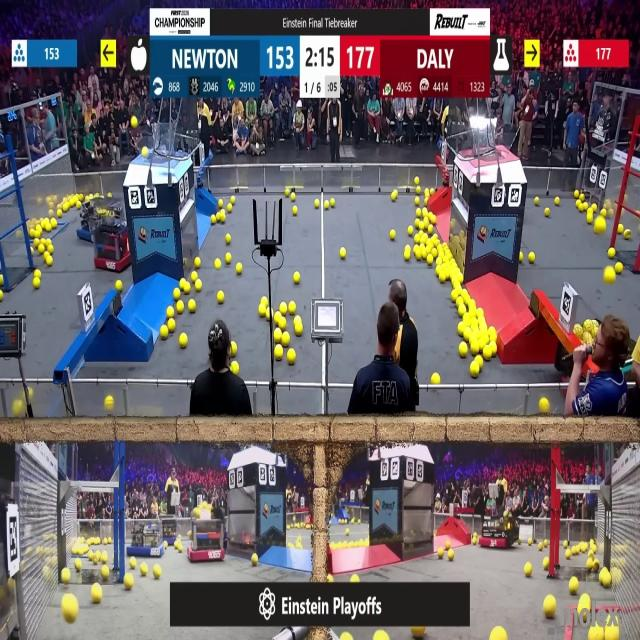ball_airborne: (132, 116, 139, 127), (142, 146, 148, 156)
ball_ground: (63, 596, 78, 622), (543, 596, 554, 618), (413, 626, 425, 640), (93, 586, 102, 604), (600, 570, 610, 586), (604, 269, 614, 284), (595, 218, 605, 233), (12, 403, 22, 418), (569, 580, 578, 596), (494, 628, 506, 640), (582, 594, 591, 610), (469, 362, 479, 376), (62, 568, 71, 583), (286, 350, 295, 364), (539, 398, 548, 412), (590, 628, 601, 639), (126, 574, 134, 589), (105, 396, 114, 409), (469, 342, 478, 355), (282, 333, 290, 347), (232, 360, 240, 374), (179, 336, 187, 350), (294, 320, 302, 334), (274, 328, 282, 342), (275, 346, 283, 359), (102, 566, 110, 579), (460, 344, 468, 357), (616, 264, 624, 276), (288, 303, 296, 315), (187, 301, 195, 313), (258, 306, 266, 318), (182, 282, 190, 294), (168, 319, 176, 331), (524, 564, 532, 576), (484, 347, 492, 359), (431, 374, 439, 385), (140, 564, 148, 575), (217, 290, 224, 302), (177, 302, 184, 314), (162, 326, 169, 338), (280, 304, 287, 316), (458, 305, 465, 317), (490, 344, 497, 356), (426, 254, 434, 264), (232, 343, 238, 356), (44, 255, 51, 266), (458, 323, 465, 334), (440, 273, 447, 284), (237, 264, 243, 276), (154, 566, 160, 578), (293, 273, 299, 285), (542, 558, 548, 570), (252, 554, 258, 566), (174, 288, 180, 300), (588, 212, 594, 224), (193, 257, 200, 267), (115, 281, 122, 291), (587, 559, 594, 569), (168, 308, 175, 318), (38, 244, 45, 254), (218, 212, 225, 222), (274, 312, 281, 322), (418, 219, 425, 229), (490, 334, 497, 344), (468, 298, 475, 308), (194, 281, 200, 292), (608, 248, 614, 259), (341, 248, 347, 259), (280, 318, 286, 329), (452, 290, 458, 301), (464, 327, 470, 338), (351, 574, 359, 582), (421, 208, 428, 217), (429, 215, 436, 224), (225, 253, 231, 263), (34, 279, 40, 289), (529, 252, 535, 262), (403, 250, 409, 260), (315, 200, 321, 210), (131, 558, 137, 568), (214, 261, 220, 271), (391, 190, 397, 200), (76, 560, 82, 570), (102, 554, 108, 564), (575, 201, 581, 211), (50, 218, 56, 228), (458, 274, 464, 284), (463, 294, 469, 304), (478, 309, 485, 317), (555, 198, 561, 207), (625, 231, 631, 240), (565, 552, 571, 561), (431, 248, 437, 257), (342, 634, 351, 640), (193, 510, 199, 519), (0, 275, 4, 288), (225, 235, 230, 245), (190, 272, 195, 282), (449, 551, 454, 561), (388, 229, 393, 239), (417, 208, 422, 218), (437, 549, 442, 559), (267, 310, 272, 320), (415, 234, 420, 244), (327, 574, 333, 582), (35, 270, 41, 278), (416, 252, 422, 260), (619, 224, 625, 232), (46, 246, 52, 254), (263, 296, 269, 304), (578, 192, 584, 200), (490, 326, 496, 334), (572, 190, 578, 198), (583, 204, 589, 212), (409, 226, 414, 235), (537, 198, 542, 207), (428, 224, 433, 233), (284, 189, 290, 196), (424, 188, 430, 195), (292, 207, 297, 215), (178, 542, 183, 550), (324, 202, 329, 210), (520, 252, 524, 262), (0, 290, 4, 300), (290, 192, 295, 200), (218, 201, 223, 209), (230, 197, 235, 205), (435, 256, 440, 264), (58, 210, 63, 218), (76, 202, 81, 210), (435, 268, 440, 276), (601, 209, 606, 217), (34, 240, 39, 248), (447, 540, 452, 548), (90, 552, 94, 562), (423, 199, 428, 207), (212, 214, 216, 223), (544, 208, 548, 217), (416, 198, 420, 207), (226, 205, 231, 212), (416, 185, 421, 192), (415, 177, 420, 184), (330, 200, 334, 208), (538, 542, 542, 550), (48, 210, 52, 218), (471, 537, 475, 544), (528, 538, 532, 545), (564, 540, 568, 547), (346, 529, 350, 535), (165, 541, 169, 547), (296, 542, 300, 548), (543, 540, 547, 546), (108, 192, 112, 197)
goal: (466, 121, 520, 160), (126, 128, 187, 159)
robot_blue: (78, 195, 123, 242), (128, 520, 164, 557), (159, 518, 179, 544)
robot_red: (190, 514, 228, 562), (479, 513, 520, 548), (0, 579, 9, 637)
